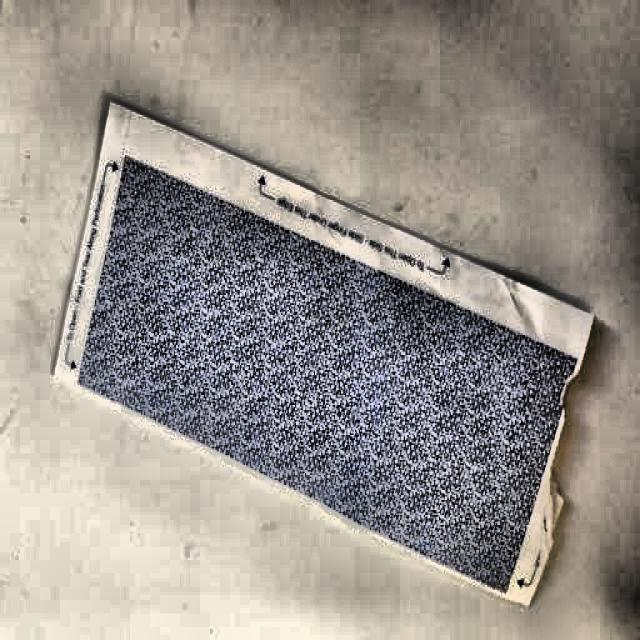paper: (58, 94, 588, 609)
